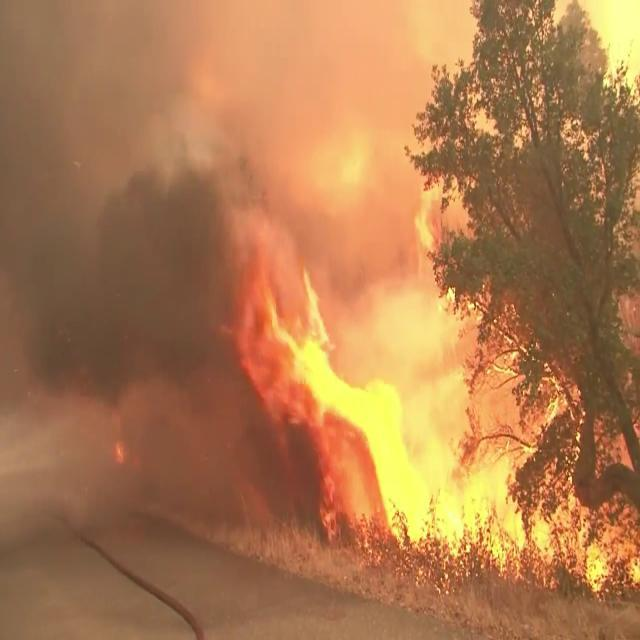Fire: (235, 240, 637, 590)
Smoke: (0, 2, 290, 510)
